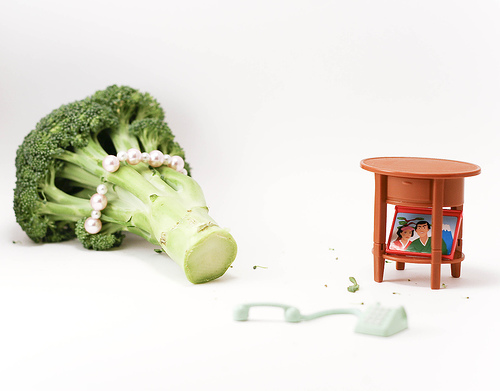broccoli: (12, 86, 238, 286)
